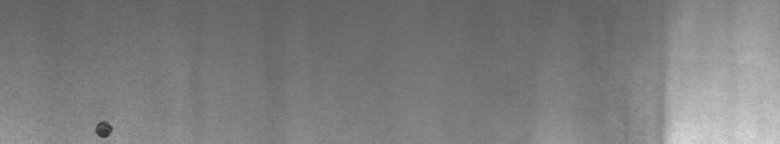fi: (88, 115, 119, 136)
